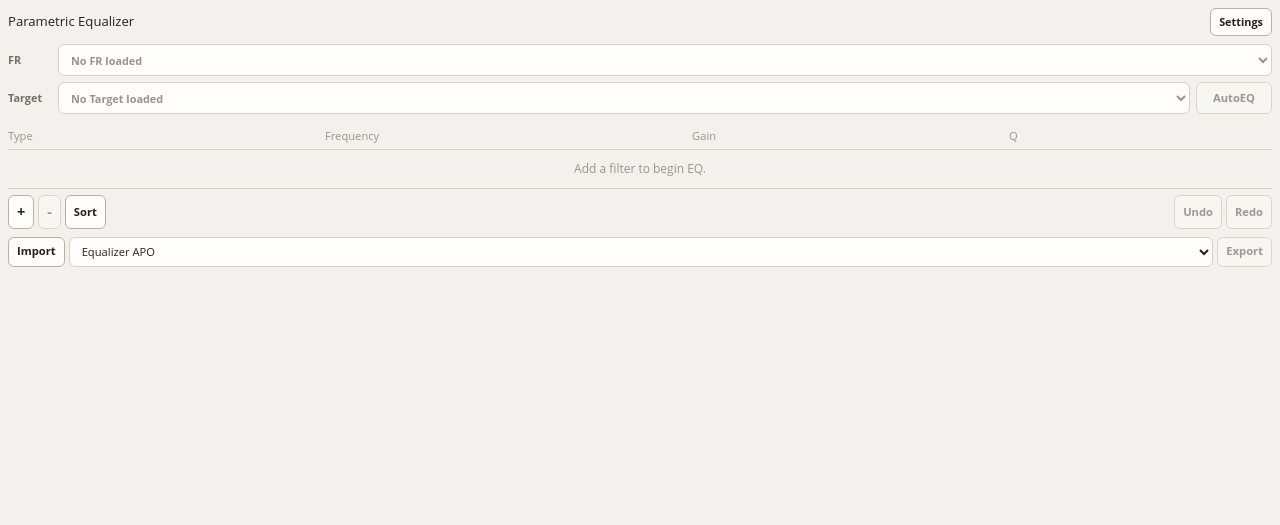
EqualizerTab › toggles the validated constraints control
What coordinates should you click on to do the following:
click the button "Settings"
I would click on:
 (1241, 22)
Its box is [1210,8,1272,36].
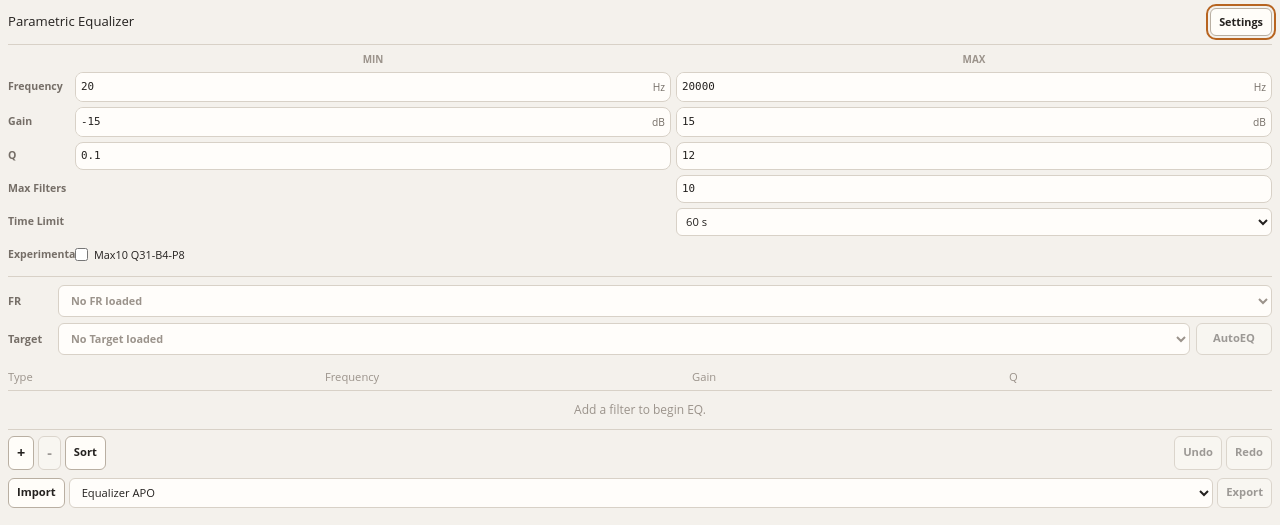
Expected: the element named "AutoEQ Settings" is shown, [8,44,1272,277]
